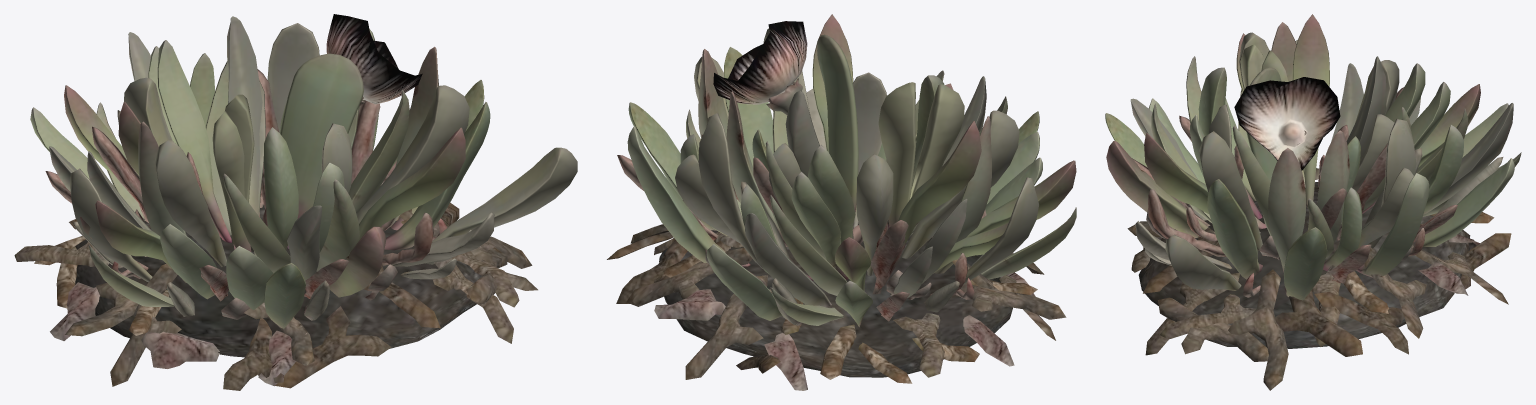
Rendered from cheiridopsis_succulent_h.gltf.
The picture shows the model from 3 angles, left to right: view 1: azimuth 30°, elevation 25°; view 2: azimuth 150°, elevation 25°; view 3: azimuth 270°, elevation 25°; orthographic projection. The views are drawn at different scales.
Visible parts, largest first — view 1: cheiridopsis_succulent_e_LOD0; view 2: cheiridopsis_succulent_e_LOD0; view 3: cheiridopsis_succulent_e_LOD0.
Part boxes in pixels (bbox=[...]): cheiridopsis_succulent_e_LOD0: bbox=[14, 14, 577, 390]; cheiridopsis_succulent_e_LOD0: bbox=[607, 14, 1076, 390]; cheiridopsis_succulent_e_LOD0: bbox=[1105, 14, 1521, 390].
Size of the model in its own units: 0.391 by 0.2277 by 0.3459.
Materials: 2 (2 with a texture image).
